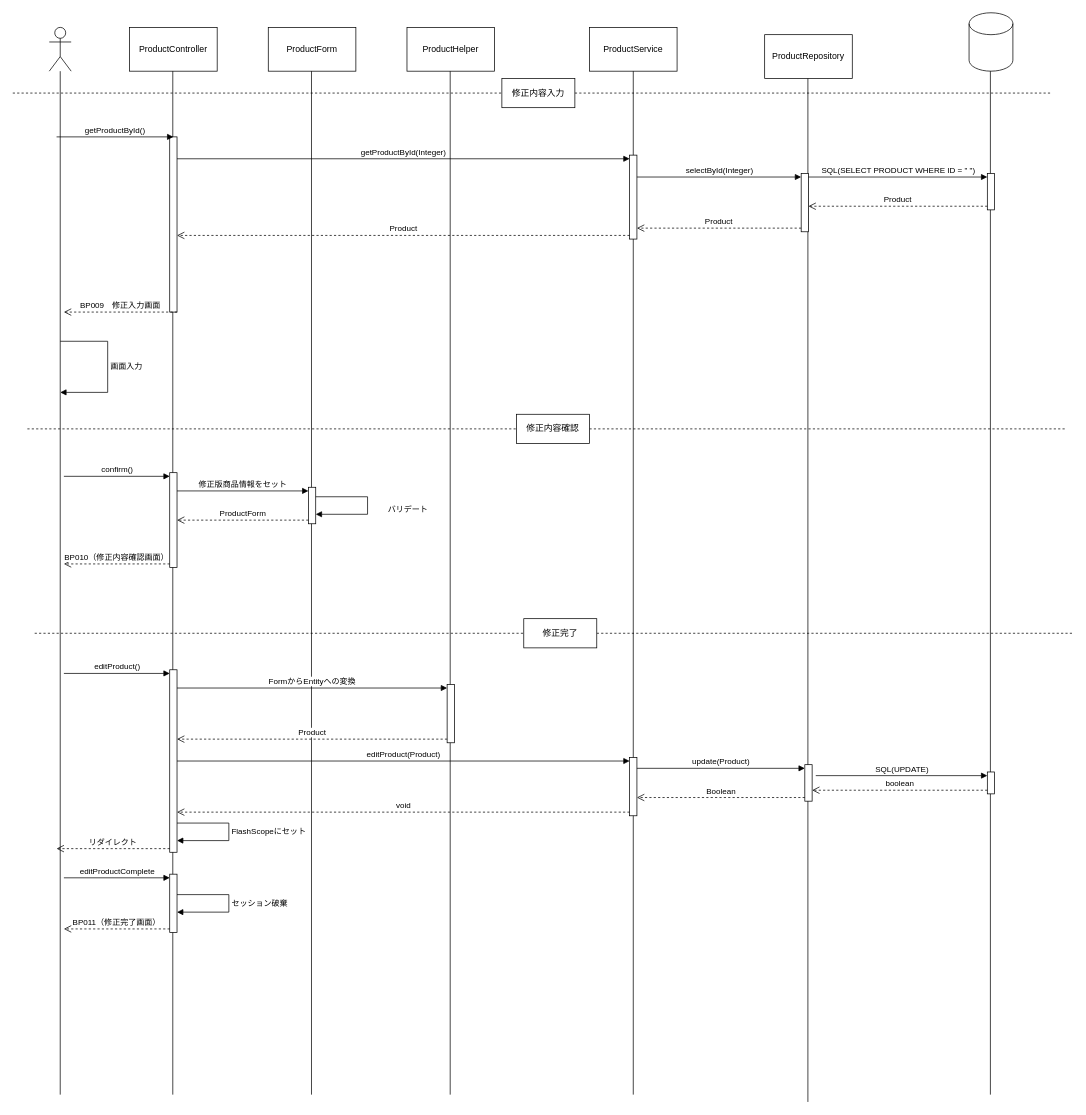
This 1086x1115 diagram has some shape labels left out. Here are the shapes that lost their labels. From the top down, the centre of each, then its label:
(60,49): Actor
(990,41): DB
